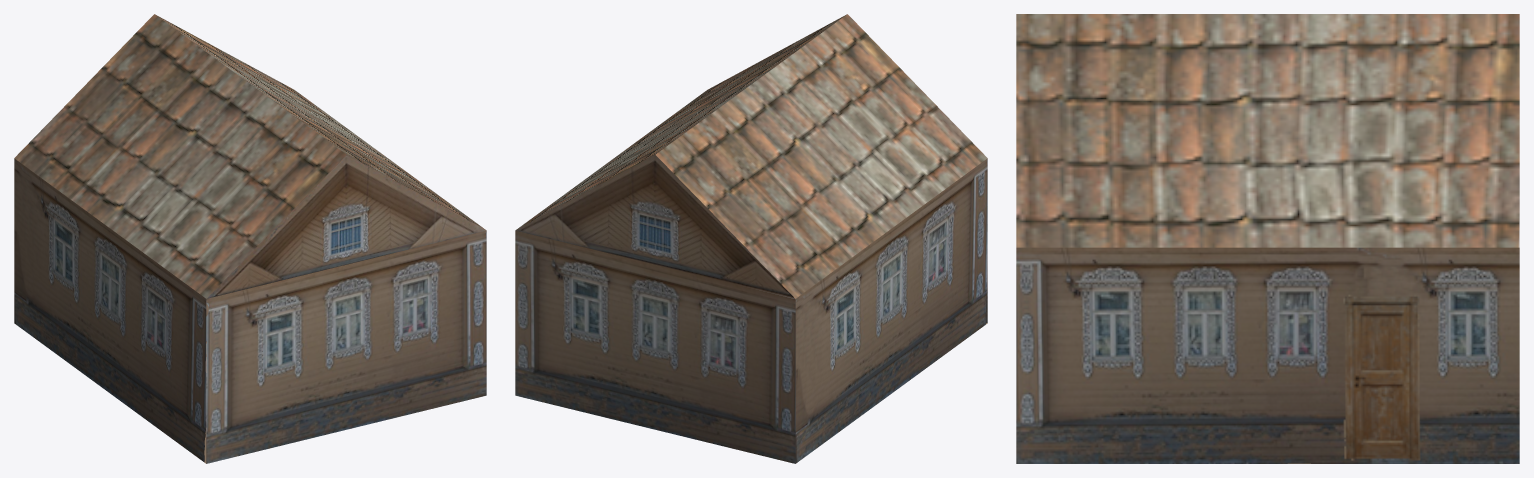
File: house.fbx
3 views of the same model, side by side, from view 1: azimuth 30°, elevation 25°; view 2: azimuth 150°, elevation 25°; view 3: azimuth 270°, elevation 25° (orthographic). The views are drawn at different scales.
Parts seen in each view (by area): view 1: Cube; view 2: Cube; view 3: Cube.
Part boxes in pixels (bbox=[...]): Cube: bbox=[14, 14, 486, 463]; Cube: bbox=[515, 14, 987, 463]; Cube: bbox=[1016, 14, 1519, 463].
Size of the model in its own units: 1600 by 1500 by 1900.
Materials: 1 (1 with a texture image).
